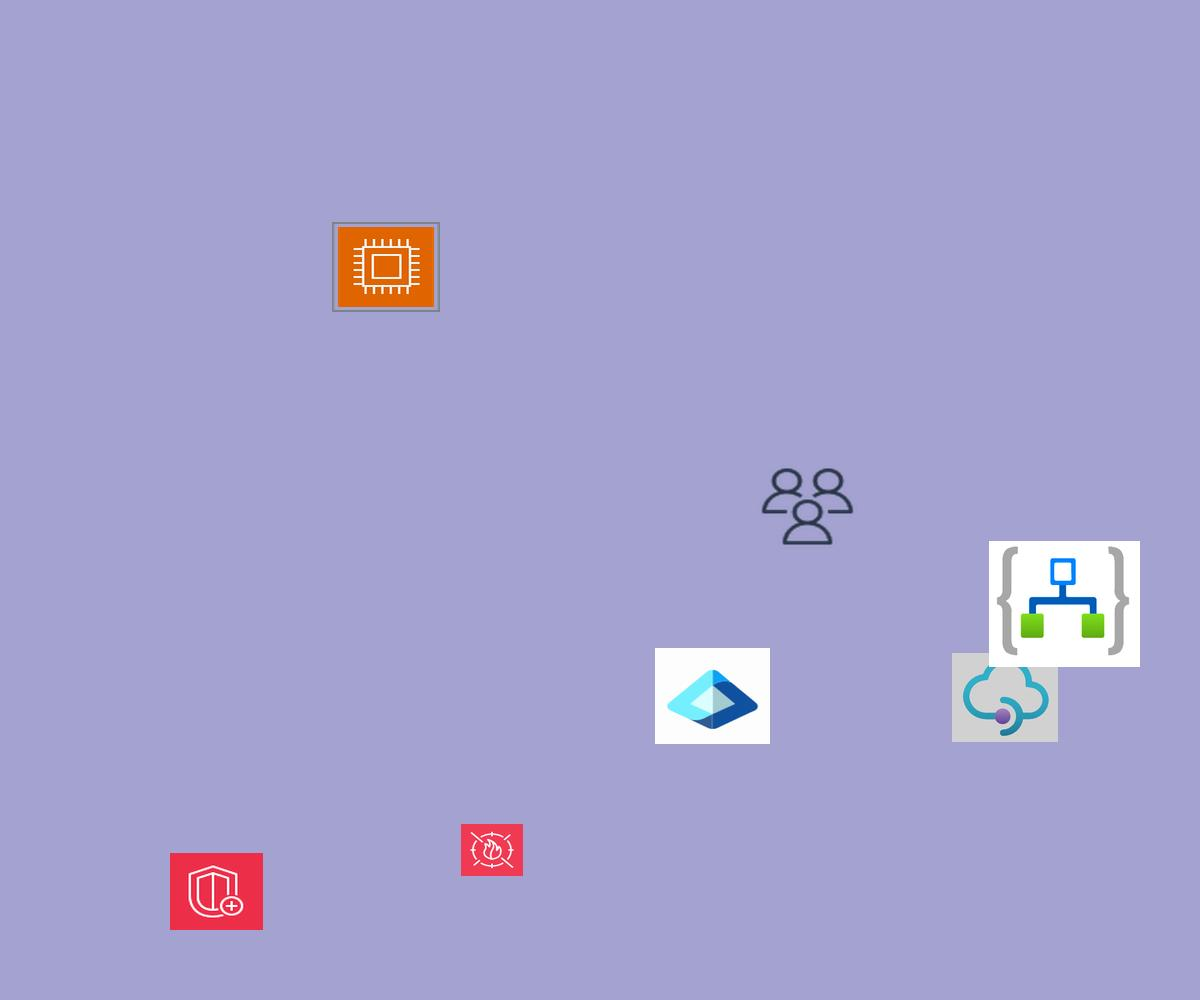AWS-Category_Compute: (332, 222, 440, 312)
AWS-Res_Users: (758, 465, 857, 548)
AWS-Shield: (170, 853, 263, 930)
AWS-WAF: (461, 824, 523, 876)
Azure_api_gateway: (952, 653, 1058, 742)
Azure_integration-204-Logic-Apps: (989, 541, 1140, 667)
Azure_microsoft_entra: (655, 648, 770, 744)
